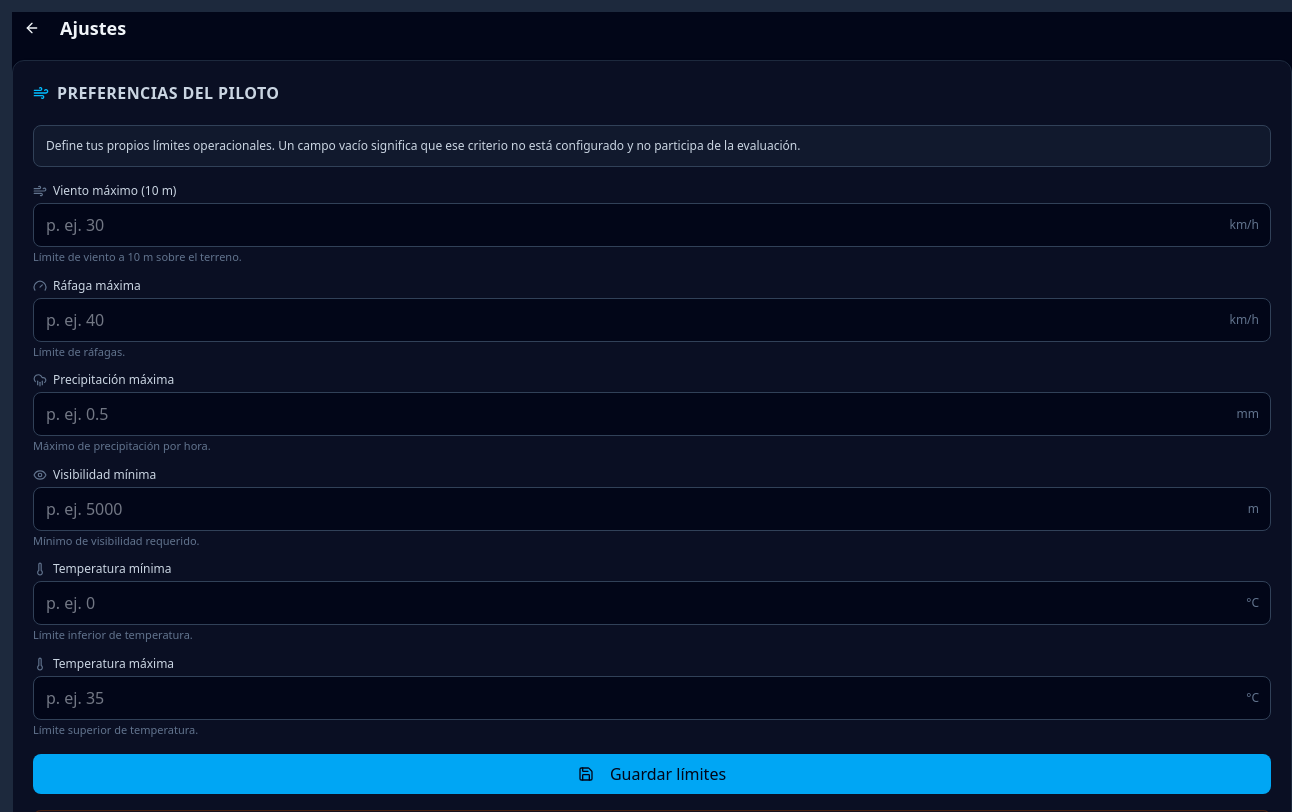
SettingsPage › saves parsed limits and confirms with a toast
In the field labelled "Viento máximo (10 m)": (652, 225) [33,203,1271,247], type "30"
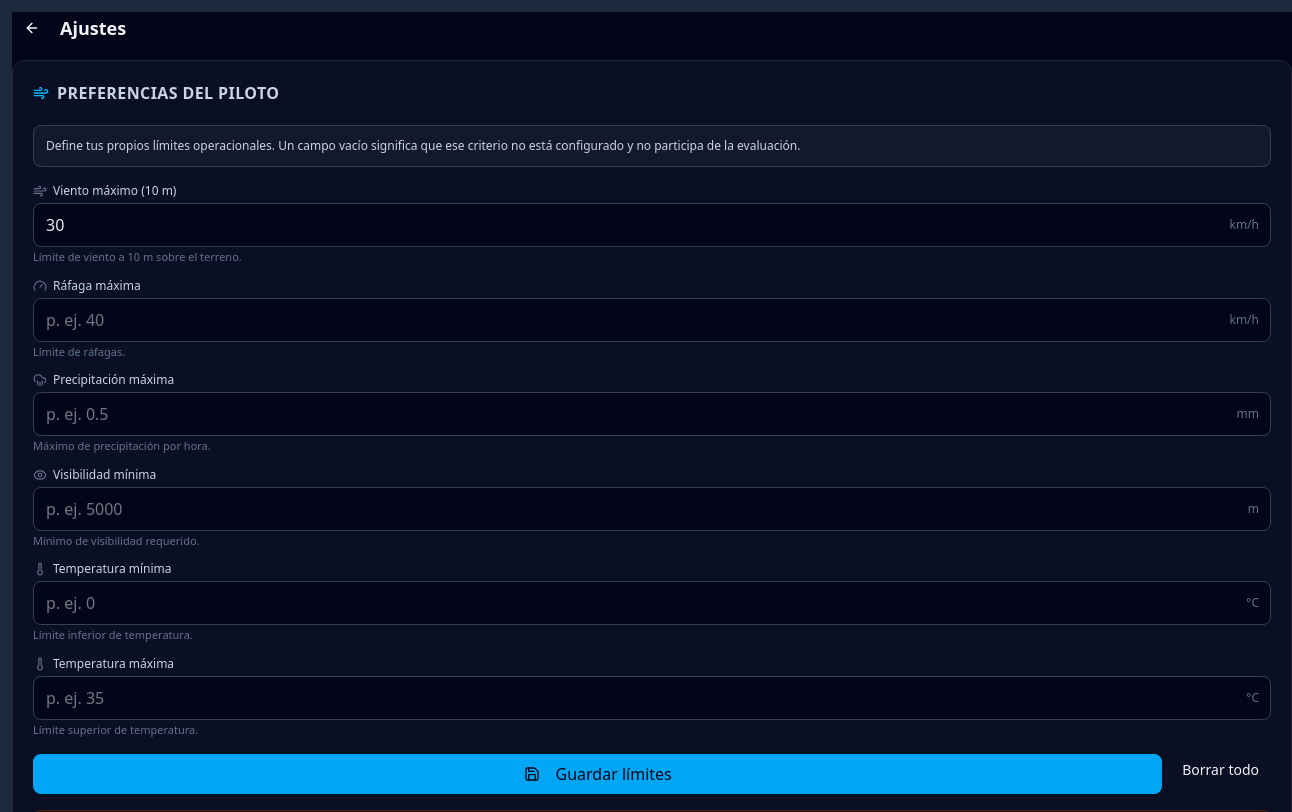
Click the button "Guardar límites": (598, 774) [33,754,1162,794]
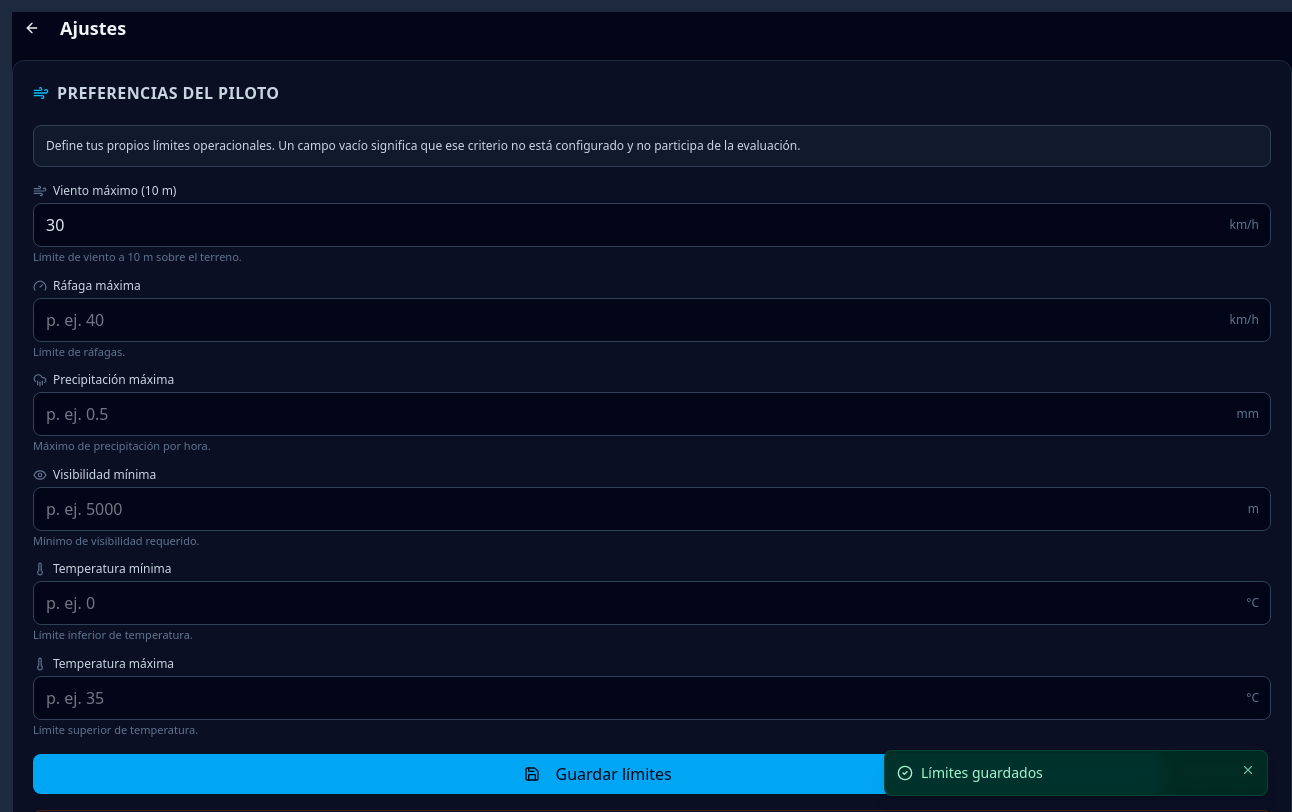
Expected: the text "Límites guardados" is shown, [921,763,1043,782]
